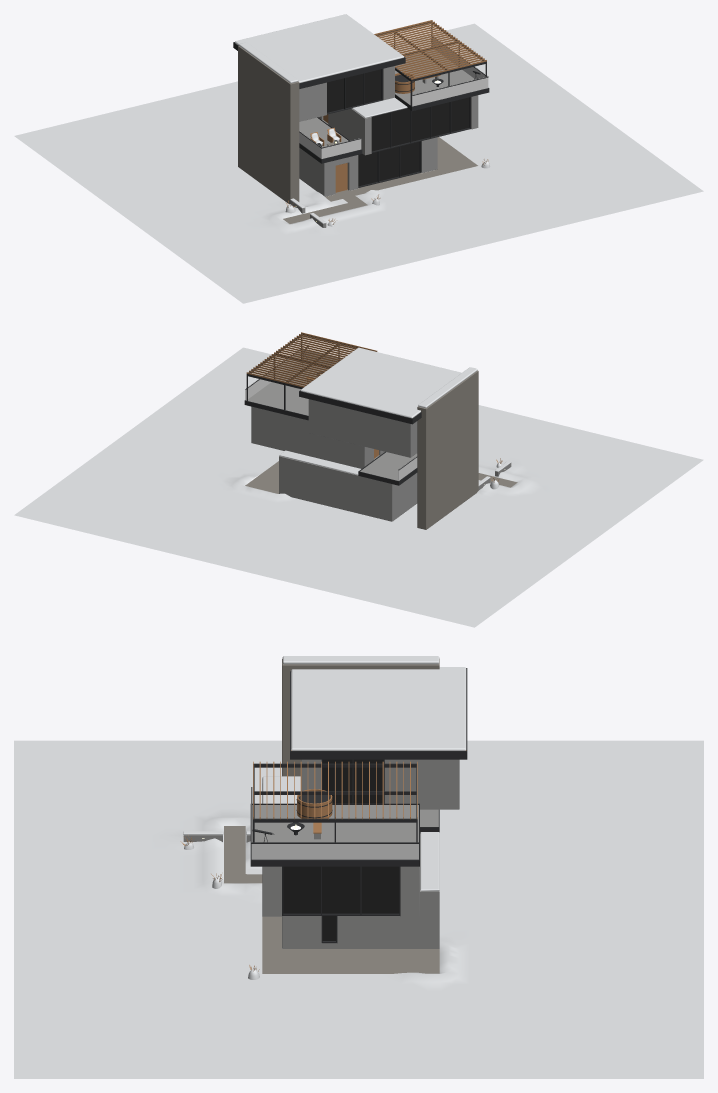
Rendered from reine.glb.
The picture shows the model from 3 angles, top to bottom: view 1: azimuth 30°, elevation 25°; view 2: azimuth 150°, elevation 25°; view 3: azimuth 270°, elevation 25°; orthographic projection. The views are drawn at different scales.
Visible parts, largest first — view 1: plinth, shell, glazing:living-front, site, balustrade, glazing:base-front, glazing:bedroom-front; view 2: plinth, shell, site, balustrade; view 3: plinth, shell, site, glazing:living-side, balustrade, glazing:bedroom-side.
Part boxes in pixels (x1,y1,x2,y2): plinth: (14, 23, 703, 303); shell: (233, 14, 489, 203); glazing:living-front: (371, 97, 469, 151); site: (283, 137, 489, 227); balustrade: (299, 38, 488, 158); glazing:base-front: (358, 141, 419, 186); glazing:bedroom-front: (327, 69, 381, 112); plinth: (14, 347, 703, 627); shell: (244, 332, 478, 529); site: (245, 458, 517, 493); balustrade: (245, 350, 417, 480); plinth: (14, 740, 703, 1078); shell: (250, 656, 467, 948); site: (180, 826, 439, 979); glazing:living-side: (283, 866, 399, 913); balustrade: (251, 787, 418, 859); glazing:bedroom-side: (322, 759, 383, 803).
Bounding box in the file's own units: 40.6 × 10.58 × 35.
